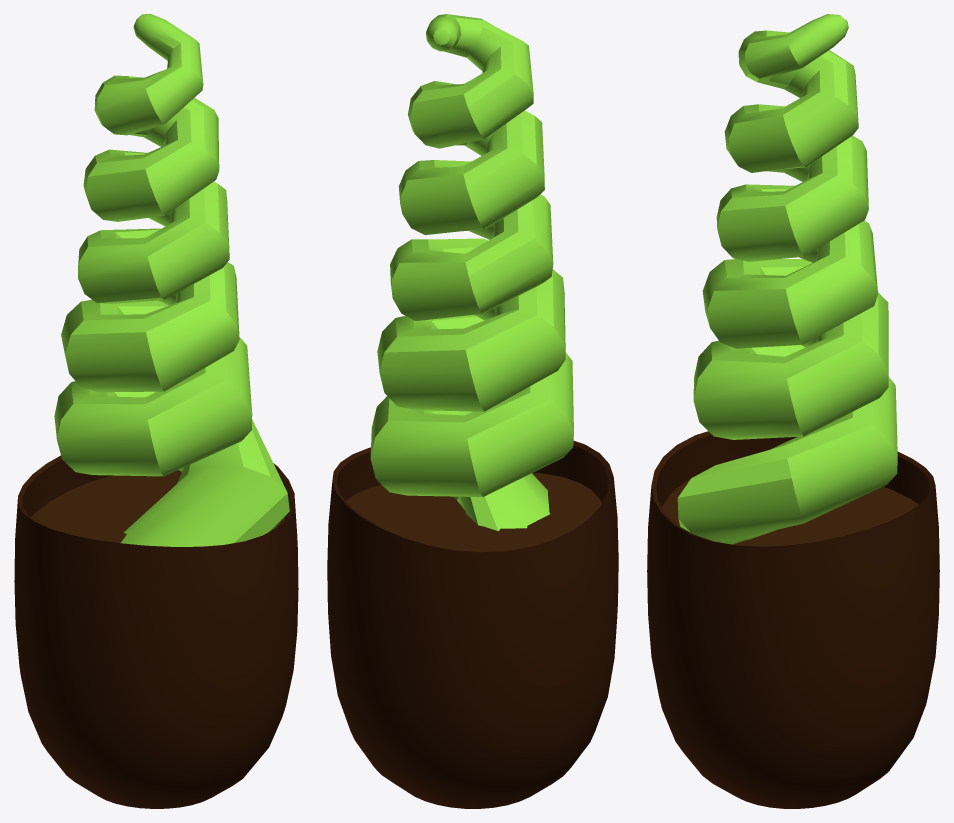
Rendered from Screwed_Tree.fbx.
The picture shows the model from 3 angles, left to right: view 1: azimuth 30°, elevation 25°; view 2: azimuth 150°, elevation 25°; view 3: azimuth 270°, elevation 25°; orthographic projection. The views are drawn at different scales.
Parts seen in each view (by area): view 1: Spiral, Sphere.016, Sphere.017; view 2: Sphere.016, Spiral, Sphere.017; view 3: Spiral, Sphere.016, Sphere.017.
Part boxes in pixels (x1,y1,x2,y2): Spiral: (54, 14, 289, 546); Sphere.016: (14, 455, 298, 808); Sphere.017: (31, 470, 284, 543); Sphere.016: (327, 441, 618, 808); Spiral: (370, 14, 573, 531); Sphere.017: (346, 472, 601, 552); Spiral: (677, 14, 897, 544); Sphere.016: (647, 431, 939, 808); Sphere.017: (662, 479, 918, 546).
Bounding box in the file's own units: 48.99 × 142 × 48.99.
